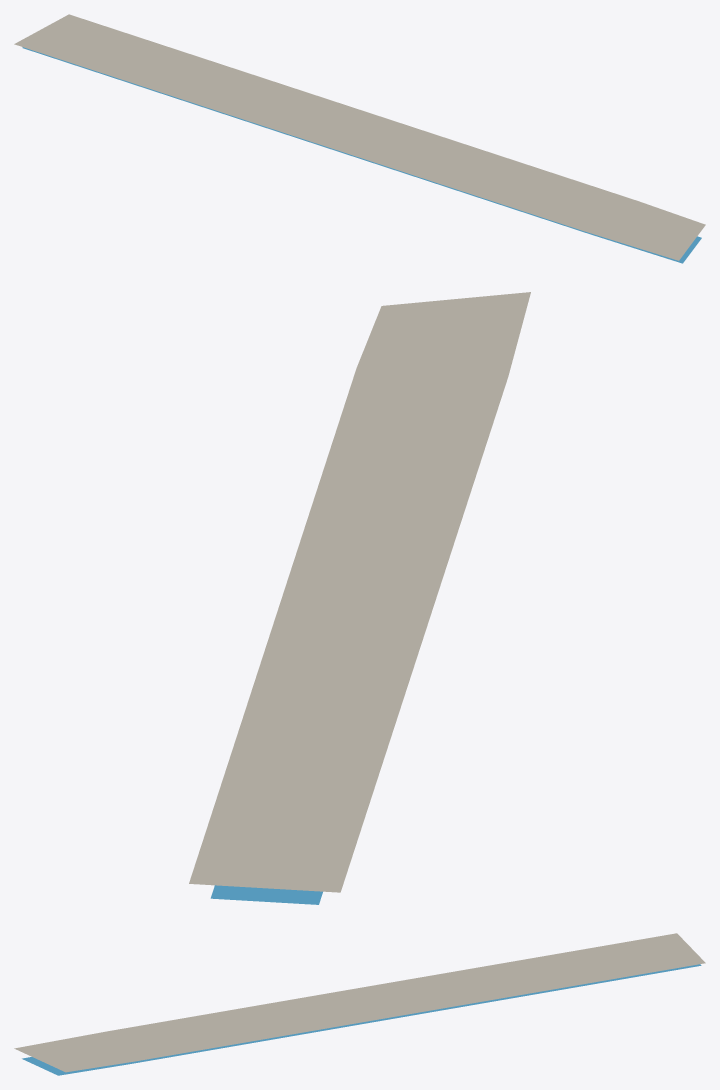
The picture shows the model from 3 angles, top to bottom: view 1: azimuth 30°, elevation 25°; view 2: azimuth 150°, elevation 25°; view 3: azimuth 270°, elevation 25°; orthographic projection. The views are drawn at different scales.
Visible parts, largest first — view 1: estructura_terreno, estructura_agua; view 2: estructura_terreno, estructura_agua; view 3: estructura_terreno, estructura_agua.
Part boxes in pixels (x1,y1,x2,y2): estructura_terreno: (14,14,705,260); estructura_agua: (22,47,701,263); estructura_terreno: (189,292,530,892); estructura_agua: (210,885,322,904); estructura_terreno: (14,933,705,1072); estructura_agua: (22,964,701,1075).
Size of the model in its own units: 18.06 by 0.41 by 37.94.
